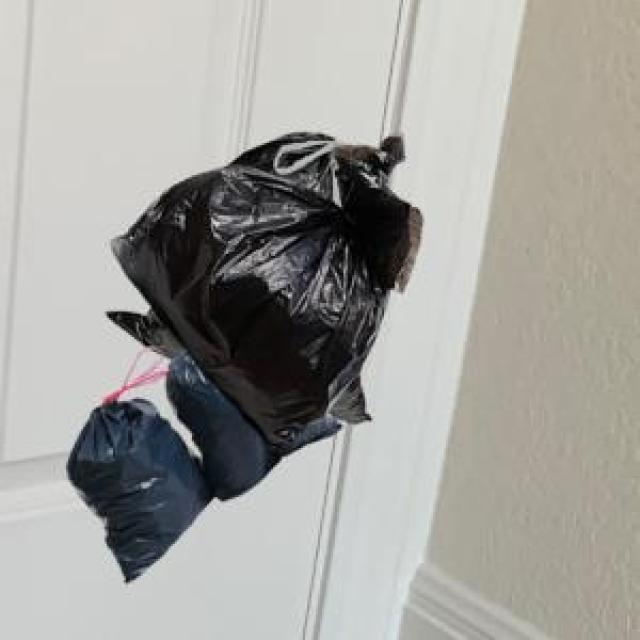waste: (70, 134, 422, 581)
